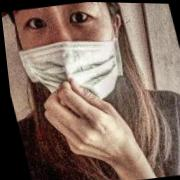WRONG: (9, 1, 129, 111)
